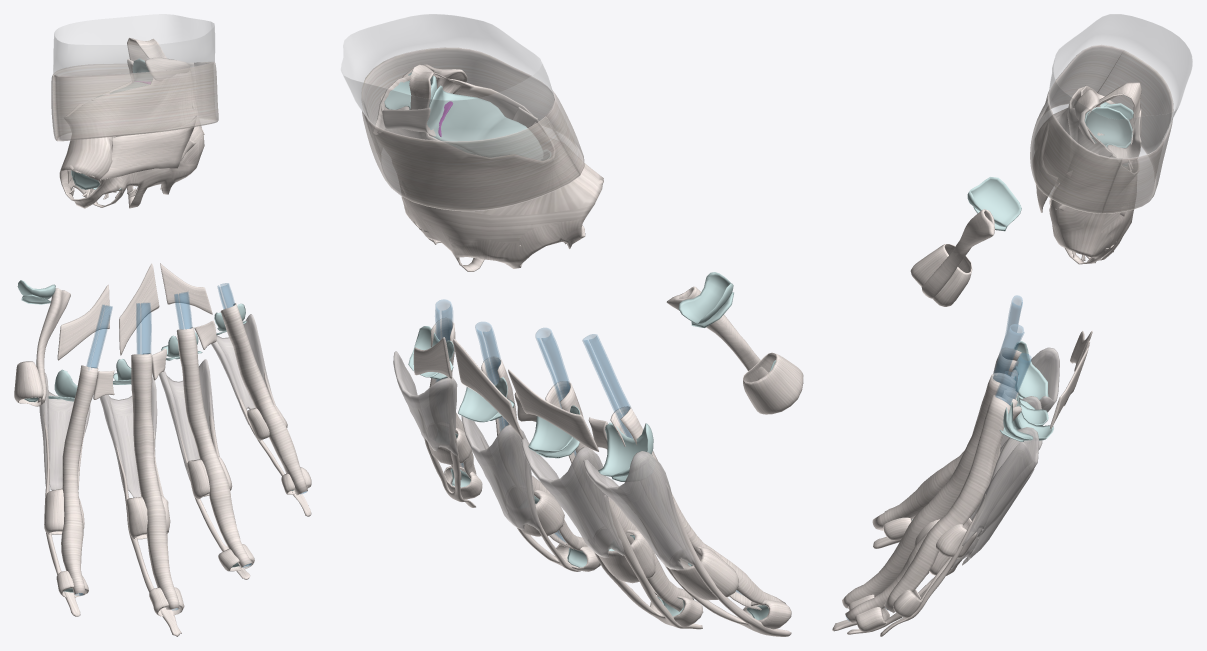
The model's file is open3d-hand-connective-01.glb.
3 renders of one model, left to right at view 1: azimuth 30°, elevation 25°; view 2: azimuth 150°, elevation 25°; view 3: azimuth 270°, elevation 25°, orthographic. The views are drawn at different scales.
Visible parts, largest first — view 1: O3D_56aa1e66a77b27, O3D_f36426cbff92ac, O3D_cf702f220bda18, O3D_7cdacd41958616, O3D_f6d9c5e11ceb61, O3D_7988ae01c88d8c, O3D_debe12f45819ba, O3D_647079f21cbcc4, O3D_53af372abed5c2, O3D_76ed619530bc8c, O3D_3ab67cc4546ed6, O3D_219d3c951ff86a (+12 smaller); view 2: O3D_f36426cbff92ac, O3D_7cdacd41958616, O3D_debe12f45819ba, O3D_cf702f220bda18, O3D_56aa1e66a77b27, O3D_584d5e74422c6a, O3D_5915ecc29877ed, O3D_7988ae01c88d8c, O3D_53af372abed5c2, O3D_02758ff41bcf48, O3D_3ab67cc4546ed6, O3D_f6d9c5e11ceb61 (+14 smaller); view 3: O3D_56aa1e66a77b27, O3D_f36426cbff92ac, O3D_7cdacd41958616, O3D_cf702f220bda18, O3D_debe12f45819ba, O3D_584d5e74422c6a, O3D_53af372abed5c2, O3D_78622d26f4d4c0, O3D_76ed619530bc8c, O3D_ea72ef38e9fa4b, O3D_fa715d49800803, O3D_7988ae01c88d8c (+6 smaller).
Boxes of the visible parts, x1,y1,x2,y2 form: O3D_56aa1e66a77b27: (61, 303, 307, 609); O3D_f36426cbff92ac: (59, 38, 204, 208); O3D_cf702f220bda18: (53, 62, 218, 141); O3D_7cdacd41958616: (53, 14, 214, 75); O3D_f6d9c5e11ceb61: (57, 263, 212, 360); O3D_7988ae01c88d8c: (44, 404, 287, 539); O3D_debe12f45819ba: (51, 62, 195, 140); O3D_647079f21cbcc4: (100, 116, 196, 179); O3D_53af372abed5c2: (14, 361, 311, 616); O3D_76ed619530bc8c: (75, 283, 307, 610); O3D_3ab67cc4546ed6: (99, 377, 157, 497); O3D_219d3c951ff86a: (159, 359, 219, 480); O3D_f36426cbff92ac: (373, 64, 603, 271); O3D_7cdacd41958616: (341, 14, 554, 141); O3D_debe12f45819ba: (361, 99, 580, 211); O3D_cf702f220bda18: (361, 47, 584, 174); O3D_56aa1e66a77b27: (429, 317, 785, 611); O3D_584d5e74422c6a: (408, 272, 733, 477); O3D_5915ecc29877ed: (583, 451, 695, 569); O3D_7988ae01c88d8c: (428, 428, 738, 600); O3D_53af372abed5c2: (444, 352, 803, 629); O3D_02758ff41bcf48: (427, 85, 543, 159); O3D_3ab67cc4546ed6: (521, 438, 624, 557); O3D_f6d9c5e11ceb61: (413, 337, 598, 451); O3D_56aa1e66a77b27: (842, 347, 1021, 623); O3D_f36426cbff92ac: (1034, 82, 1141, 264); O3D_7cdacd41958616: (1048, 14, 1192, 159); O3D_cf702f220bda18: (1030, 44, 1123, 213); O3D_debe12f45819ba: (1097, 50, 1173, 213); O3D_584d5e74422c6a: (967, 177, 1053, 440); O3D_53af372abed5c2: (848, 244, 972, 632); O3D_78622d26f4d4c0: (962, 427, 1038, 545); O3D_76ed619530bc8c: (846, 295, 1031, 621); O3D_ea72ef38e9fa4b: (921, 209, 994, 298); O3D_fa715d49800803: (1084, 107, 1132, 148); O3D_7988ae01c88d8c: (914, 518, 977, 575).
Size of the model in its own units: 0.1053 by 0.1828 by 0.0965.
Materials: 9 (5 with a texture image).
